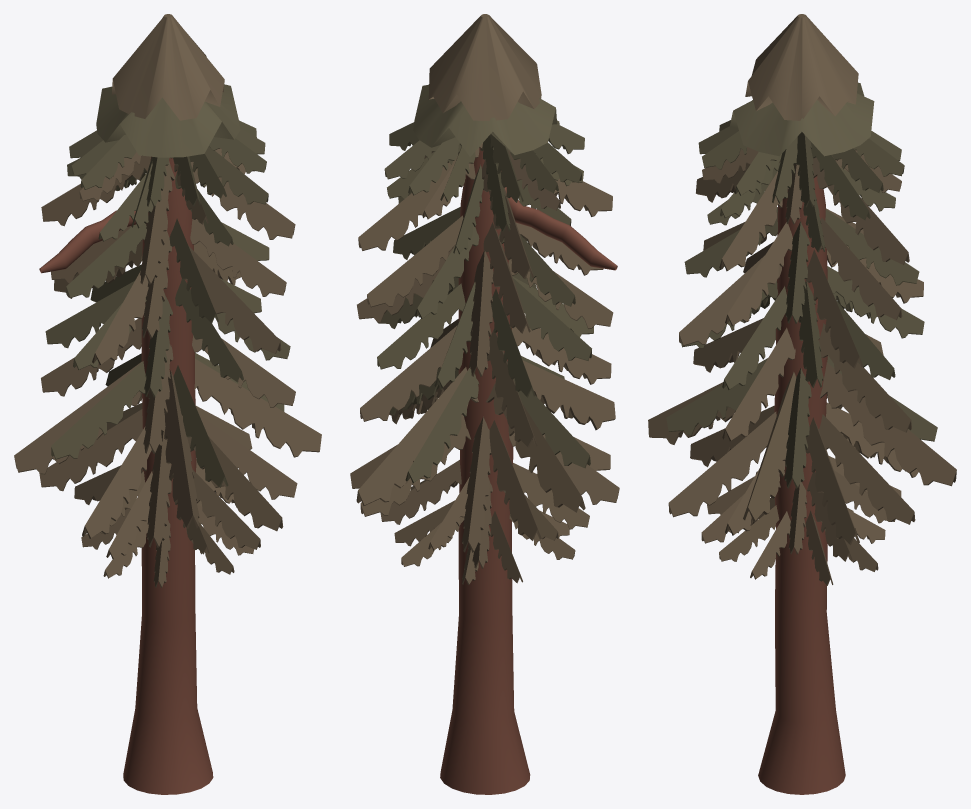
Rendered from Lowpoly_Detailed_Tree.fbx.
3 renders of one model, left to right at view 1: azimuth 30°, elevation 25°; view 2: azimuth 150°, elevation 25°; view 3: azimuth 270°, elevation 25°, orthographic.
Parts seen in each view (by area): view 1: Lowpoly_Detailed_Tree; view 2: Lowpoly_Detailed_Tree; view 3: Lowpoly_Detailed_Tree.
Part boxes in pixels (left/top/right/bottom): Lowpoly_Detailed_Tree: left=14, top=14, right=321, bottom=794; Lowpoly_Detailed_Tree: left=350, top=14, right=619, bottom=794; Lowpoly_Detailed_Tree: left=648, top=14, right=956, bottom=794.
Size of the model in its own units: 9.75 by 27.6 by 10.17.
